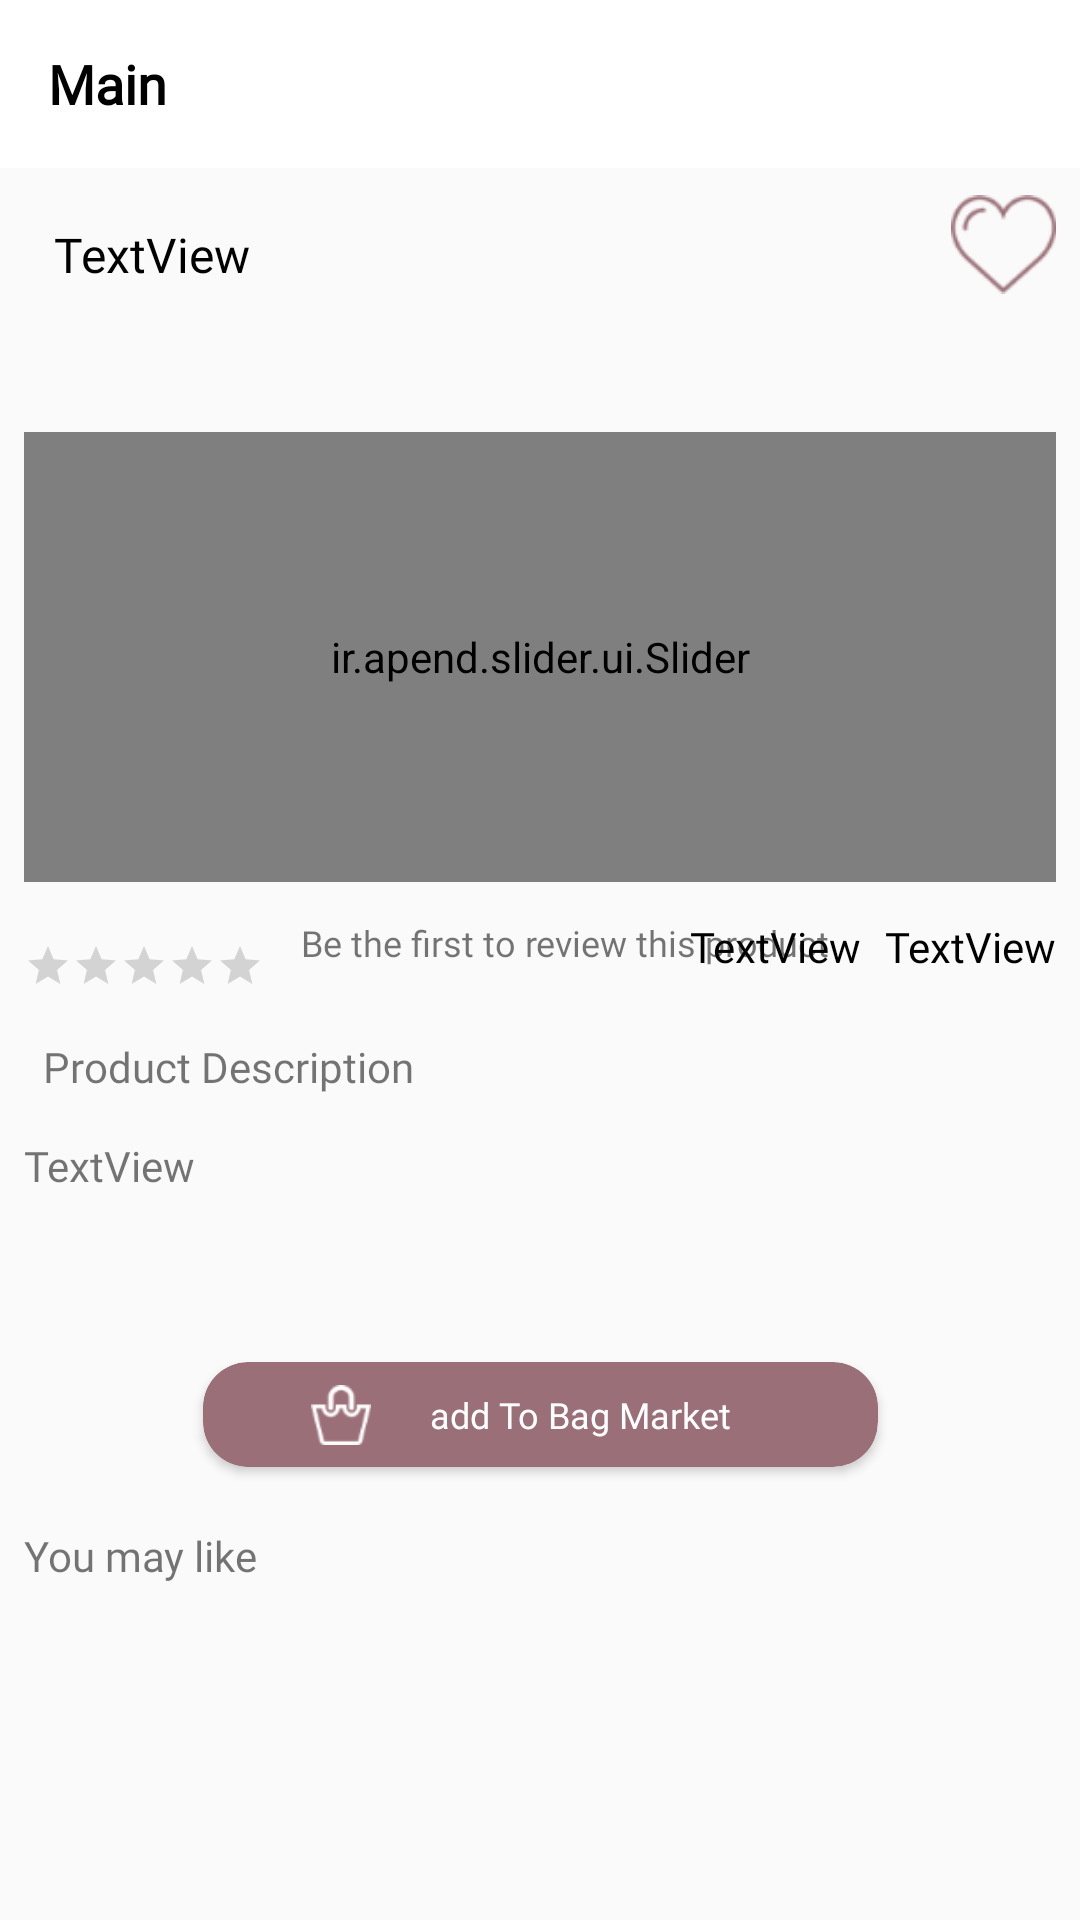

Locate icon controls on the screen. Image size 1080 x 1920, boxes as (x1, y1, x2, y2).
cart: (311, 1385, 371, 1445)
fav: (951, 195, 1056, 294)
